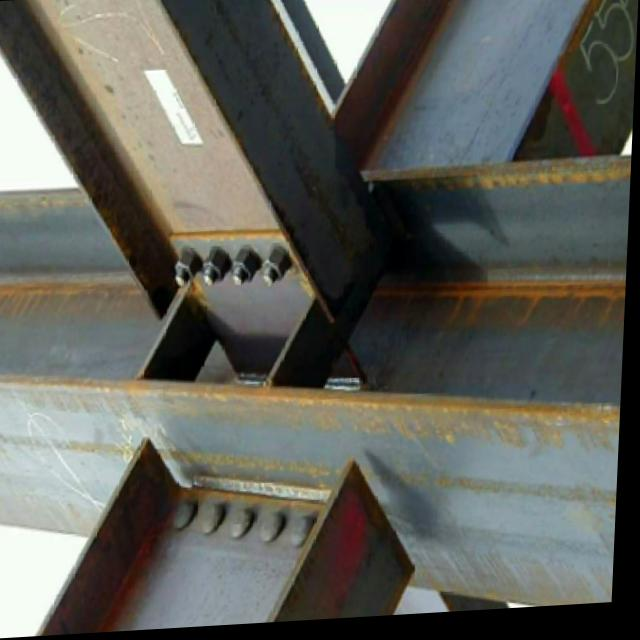Regular bolt: (174, 248, 207, 293), (230, 252, 267, 292), (264, 247, 297, 289), (204, 251, 235, 290)
